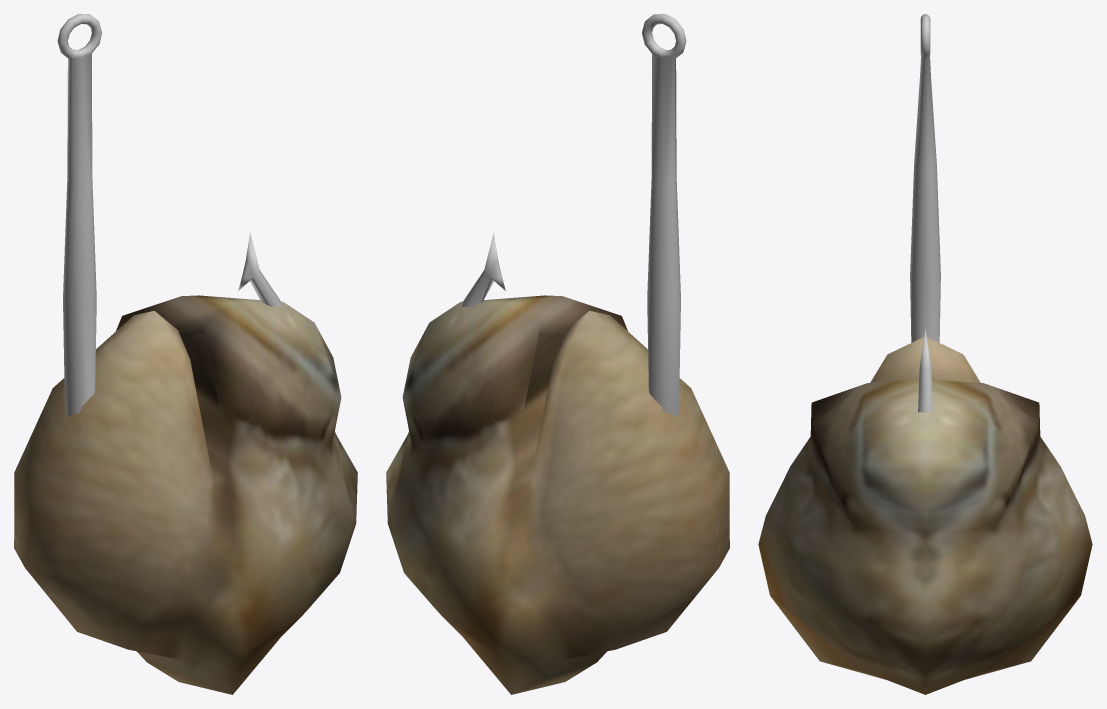
File: Bait_Snail.fbx
3 views of the same model, side by side, from view 1: azimuth 30°, elevation 25°; view 2: azimuth 150°, elevation 25°; view 3: azimuth 270°, elevation 25° (orthographic). The views are drawn at different scales.
Parts seen in each view (by area): view 1: Bait_Snail; view 2: Bait_Snail; view 3: Bait_Snail.
Part boxes in pixels (x1,y1,x2,y2): Bait_Snail: [14, 14, 357, 694]; Bait_Snail: [386, 14, 729, 694]; Bait_Snail: [758, 14, 1092, 694].
Bounding box in the file's own units: 0.3031 × 0.6017 × 0.2889.
